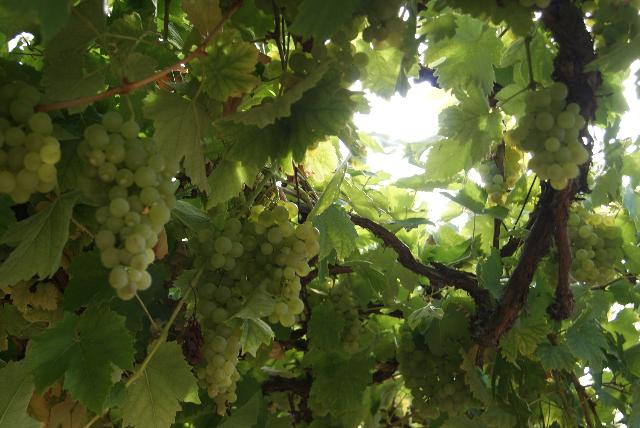grapes: (78, 111, 180, 300), (241, 202, 319, 328), (196, 218, 245, 415), (512, 82, 589, 190), (0, 81, 61, 204)
